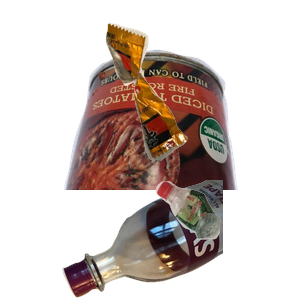glass: (60, 180, 300, 300)
metal: (62, 47, 300, 227)
plastic: (153, 178, 300, 300)
trash: (103, 21, 300, 174)
